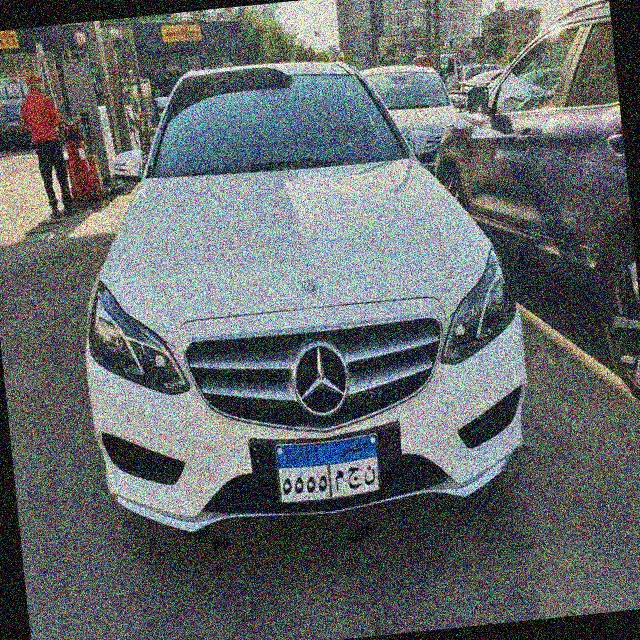License Plate: (271, 429, 386, 508)
